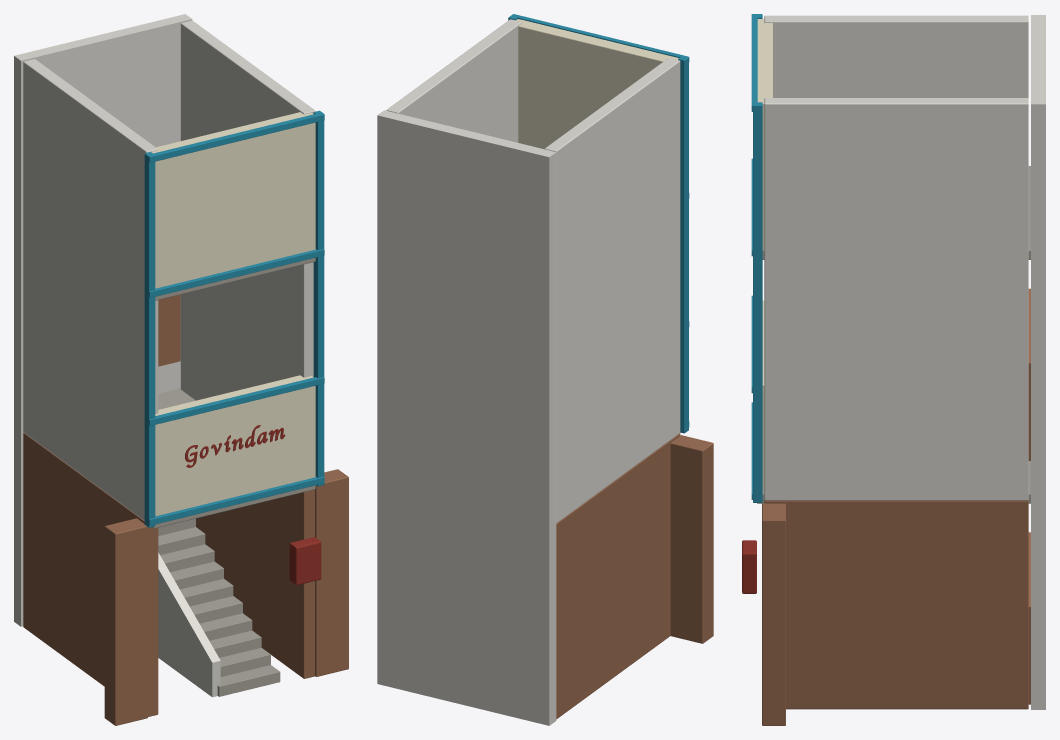
Rendered from govindam-bay.glb.
3 renders of one model, left to right at view 1: azimuth 30°, elevation 25°; view 2: azimuth 150°, elevation 25°; view 3: azimuth 270°, elevation 25°, orthographic. The views are drawn at different scales.
Parts seen in each view (by area): view 1: Inferred aged warm white plaster, Observed brown lower paint, Inferred pale cream guard panel, Observed blue border, inferred color, Inferred worn concrete steps, Observed burgundy name letters; view 2: Inferred aged warm white plaster, Observed brown lower paint, Inferred pale cream guard panel, Observed blue border, inferred color; view 3: Inferred aged warm white plaster, Observed brown lower paint, Observed blue border, inferred color, Inferred pale cream guard panel, Observed burgundy name letters.
Part boxes in pixels (x1,y1,x2,y2): Inferred aged warm white plaster: [14, 14, 315, 697]; Observed brown lower paint: [23, 294, 348, 725]; Inferred pale cream guard panel: [151, 112, 315, 516]; Observed blue border, inferred color: [144, 110, 324, 527]; Inferred worn concrete steps: [152, 257, 315, 696]; Observed burgundy name letters: [185, 425, 321, 585]; Inferred aged warm white plaster: [377, 19, 680, 725]; Observed brown lower paint: [556, 433, 713, 719]; Inferred pale cream guard panel: [516, 19, 678, 149]; Observed blue border, inferred color: [508, 14, 689, 433]; Inferred aged warm white plaster: [764, 15, 1045, 709]; Observed brown lower paint: [762, 288, 1030, 725]; Observed blue border, inferred color: [751, 14, 762, 502]; Inferred pale cream guard panel: [757, 19, 772, 493]; Observed burgundy name letters: [742, 540, 756, 593].
Bounding box in the file's own units: 3.89 × 9 × 4.09.
